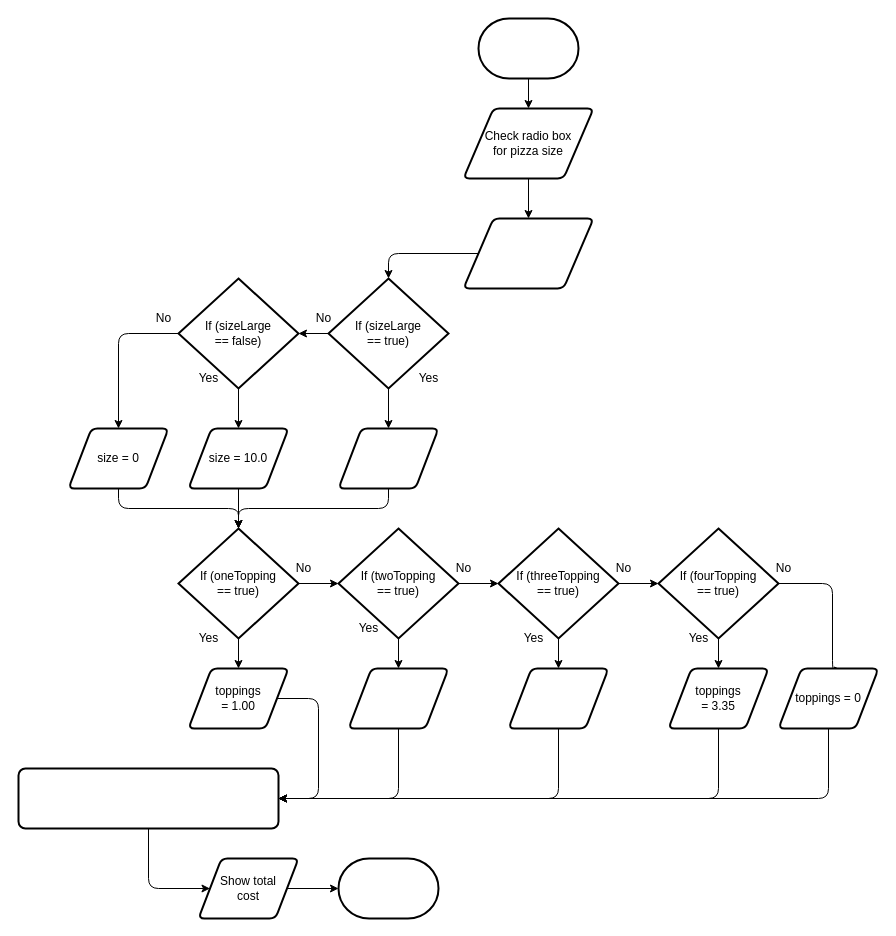
Image size: 896x936. Some labels were removed from this diagram. The centre of each missing label's shape, as x and y in pixels:
"Check radio box for # of toppings" goes at [528,253].
"size = 6.0" goes at [388,458].
"Start" goes at [528,48].
"Stop" goes at [388,888].
"toppings = 1.75" goes at [398,698].
"toppings = 2.50" goes at [558,698].
"total = (size + toppings) * (1 + TAX)" goes at [148,798].
